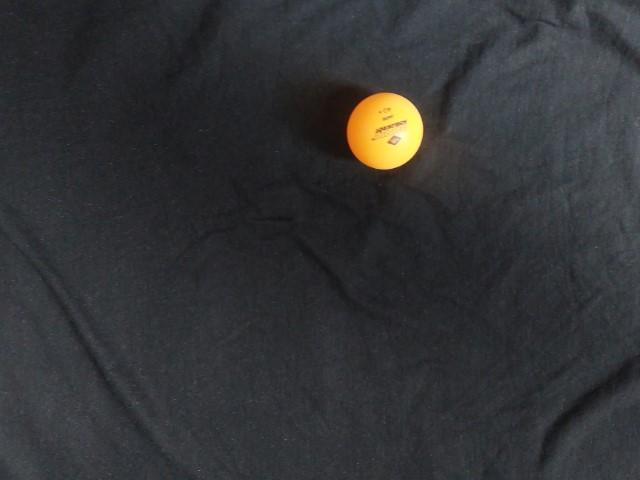oball: (212, 307, 300, 398)
